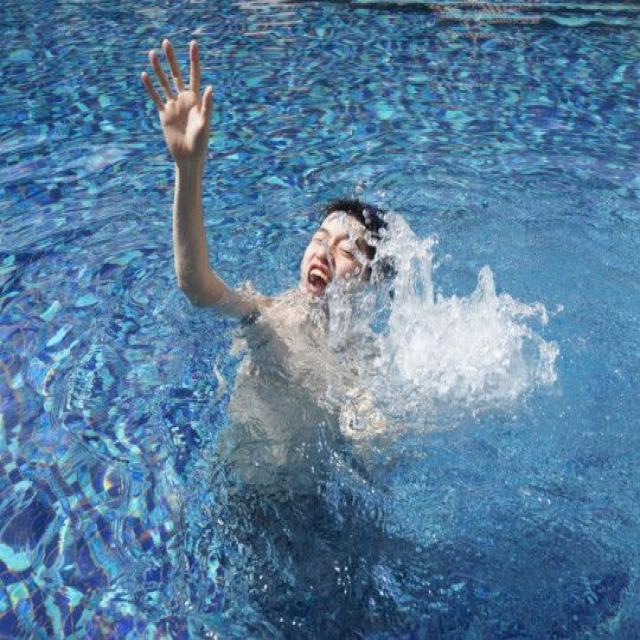Drowning: (118, 41, 494, 533)
